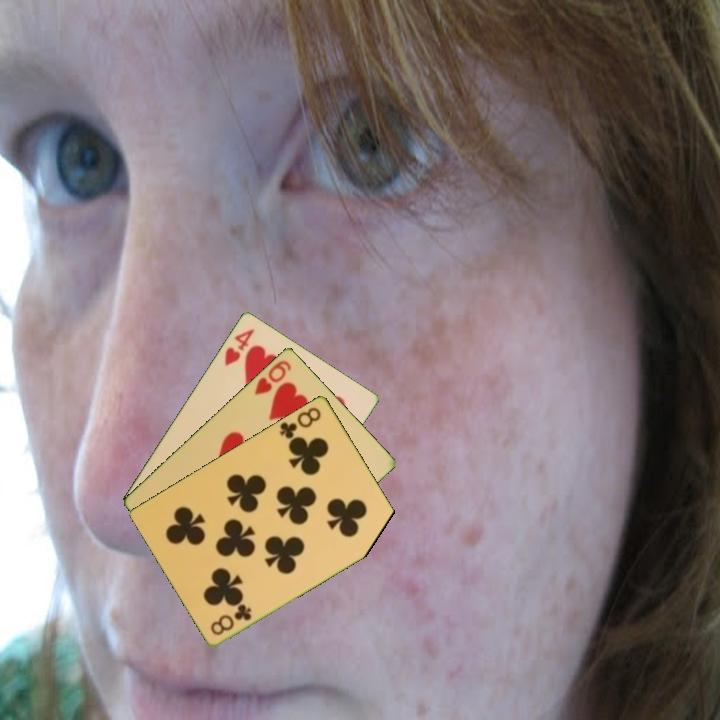4h: (221, 325, 257, 369)
6h: (251, 356, 294, 397)
8c: (276, 403, 324, 444), (207, 600, 255, 638)
